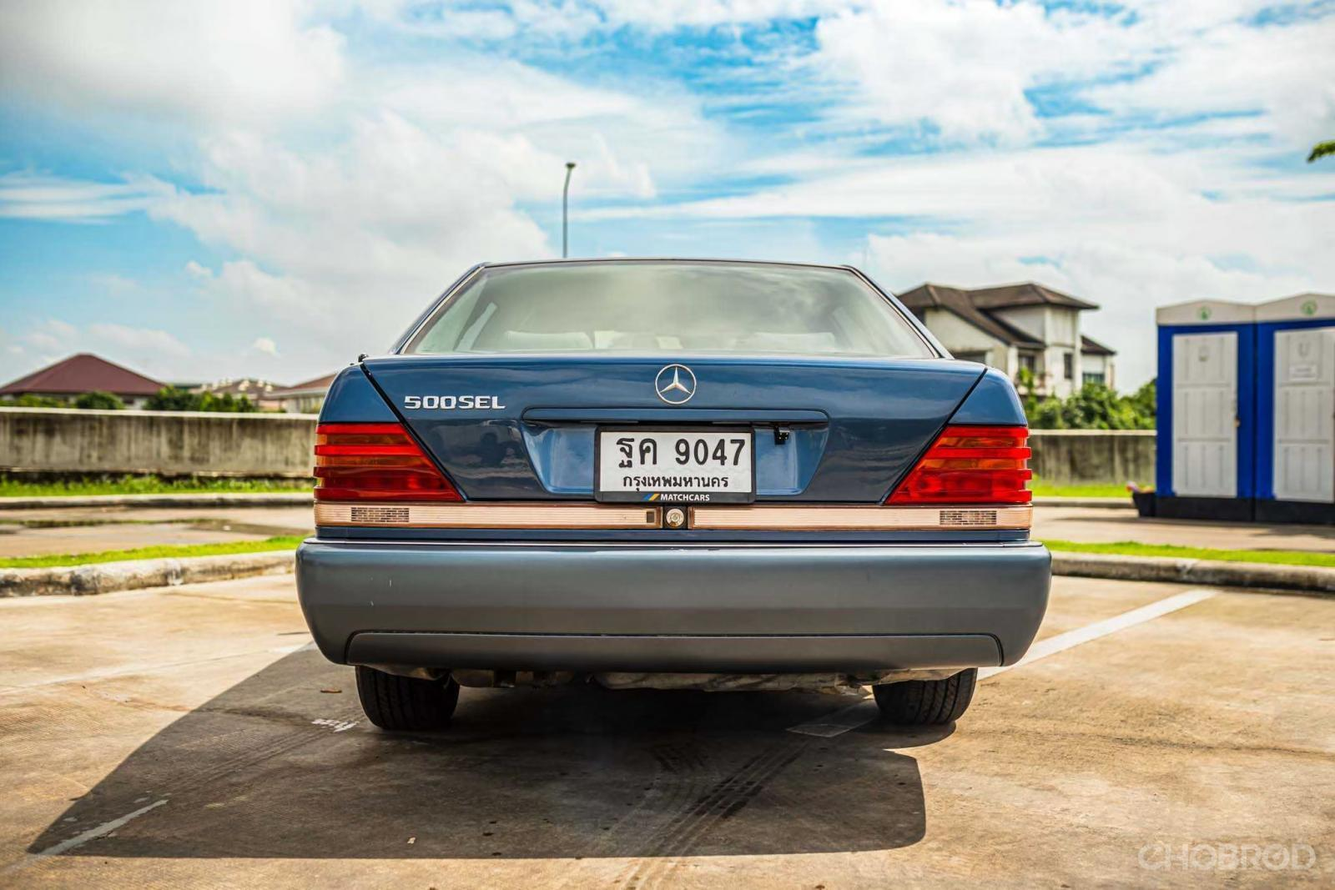license-plate: (583, 423, 761, 510)
